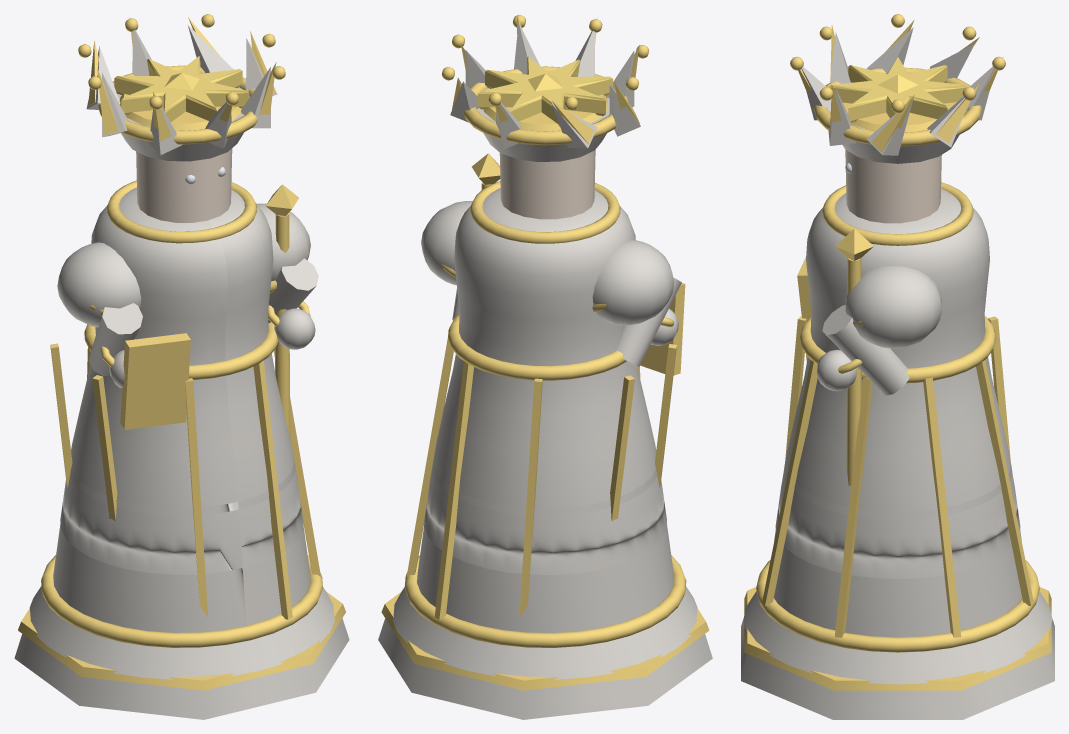
Rendered from queen.glb.
3 views of the same model, side by side, from view 1: azimuth 30°, elevation 25°; view 2: azimuth 150°, elevation 25°; view 3: azimuth 270°, elevation 25° (orthographic).
Parts seen in each view (by area): view 1: body, gold, face, marker; view 2: body, gold, face, marker; view 3: body, gold, face, marker.
Boxes of the visible parts, x1,y1,x2,y2 form: body: [14, 25, 349, 719]; gold: [18, 14, 345, 690]; face: [136, 148, 232, 222]; marker: [114, 56, 249, 122]; body: [378, 23, 712, 719]; gold: [381, 15, 709, 690]; face: [499, 150, 595, 219]; marker: [478, 57, 612, 126]; body: [741, 27, 1054, 719]; gold: [744, 14, 1051, 690]; face: [845, 149, 941, 223]; marker: [828, 57, 967, 122].
Bounding box in the file's own units: 0.7206 × 1.52 × 0.7206.
